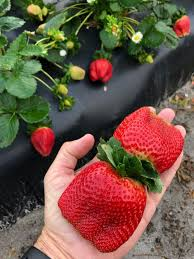ripe: (53, 161, 160, 251), (106, 100, 190, 179), (28, 124, 54, 157), (86, 58, 113, 83), (173, 13, 190, 38)
unripe: (66, 61, 86, 84)
